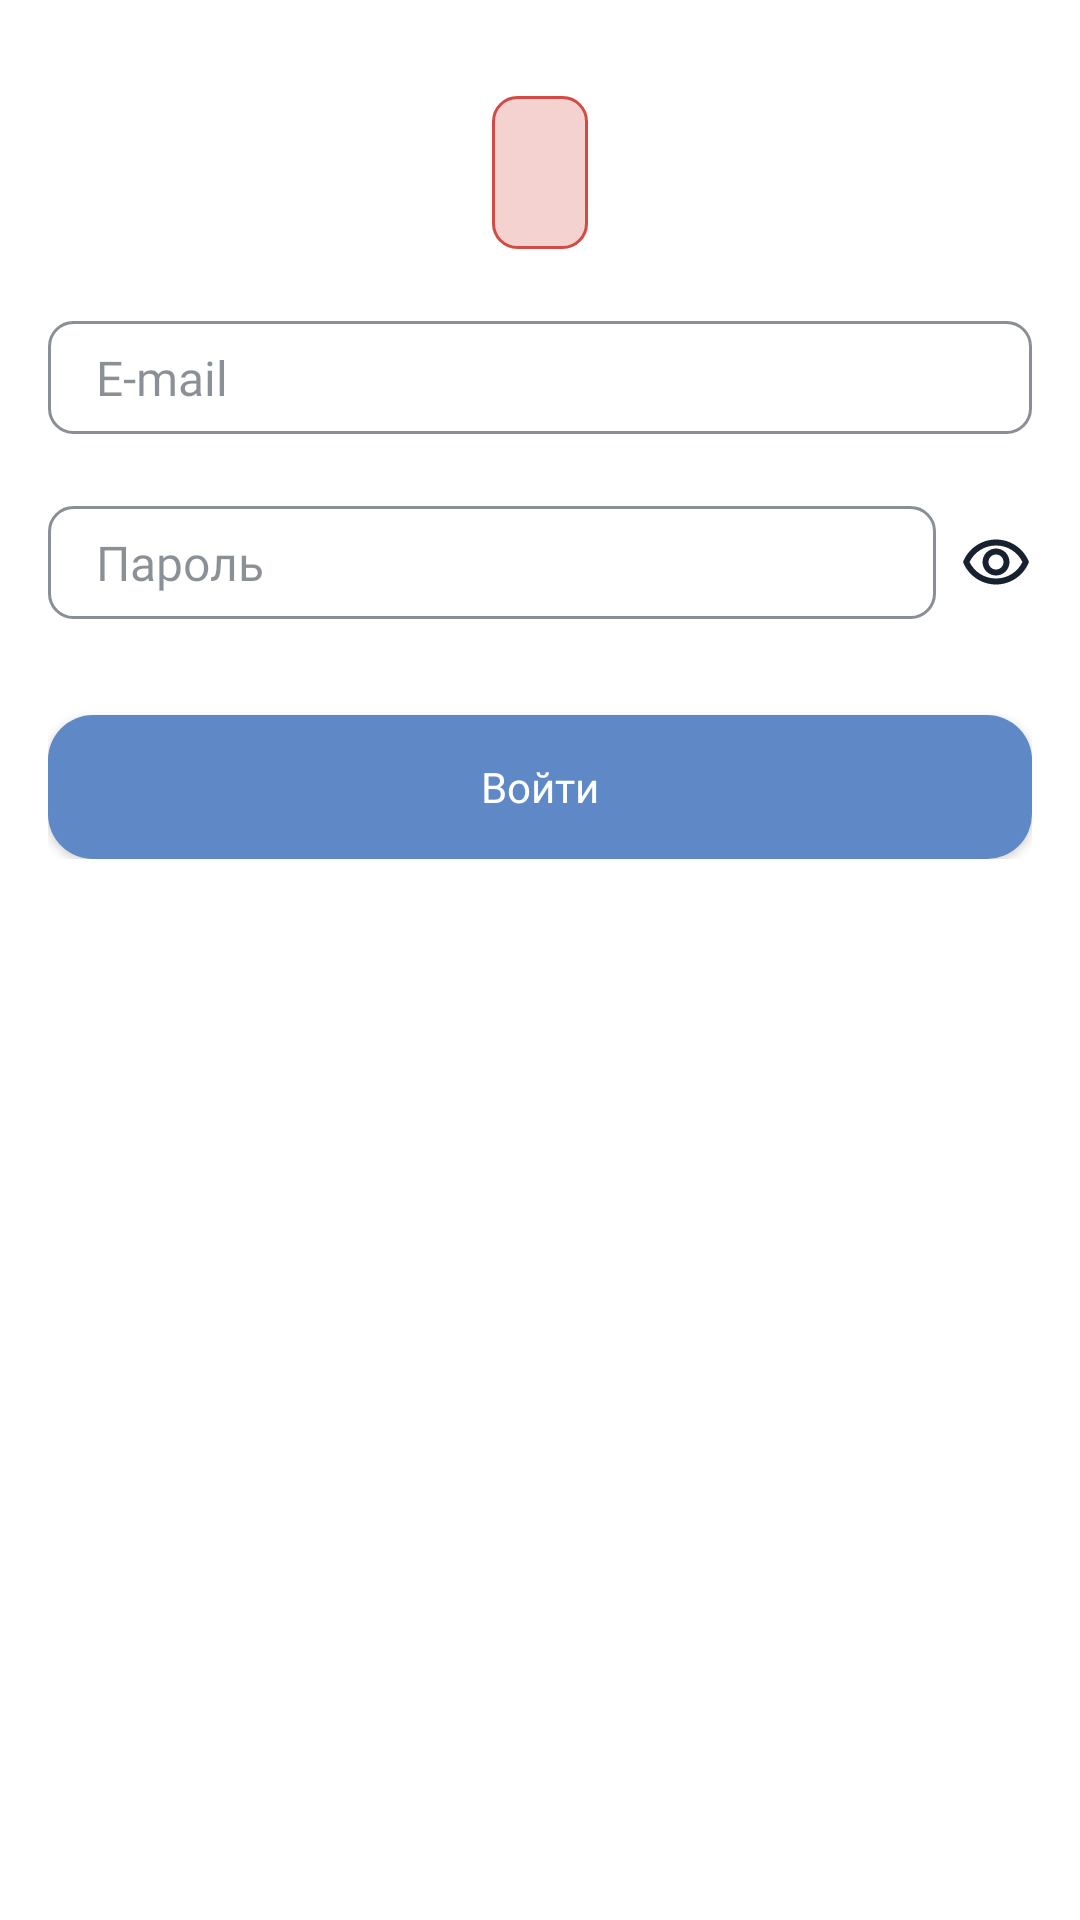

Named icons in this screenshot (1080 × 1920) and their centers, [x,y]:
hidden password: [996,562]
